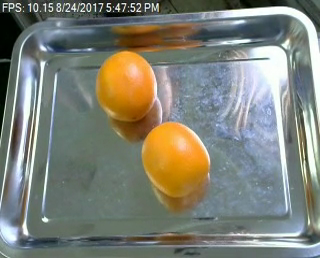Orange: (140, 120, 210, 198), (96, 50, 158, 122)
